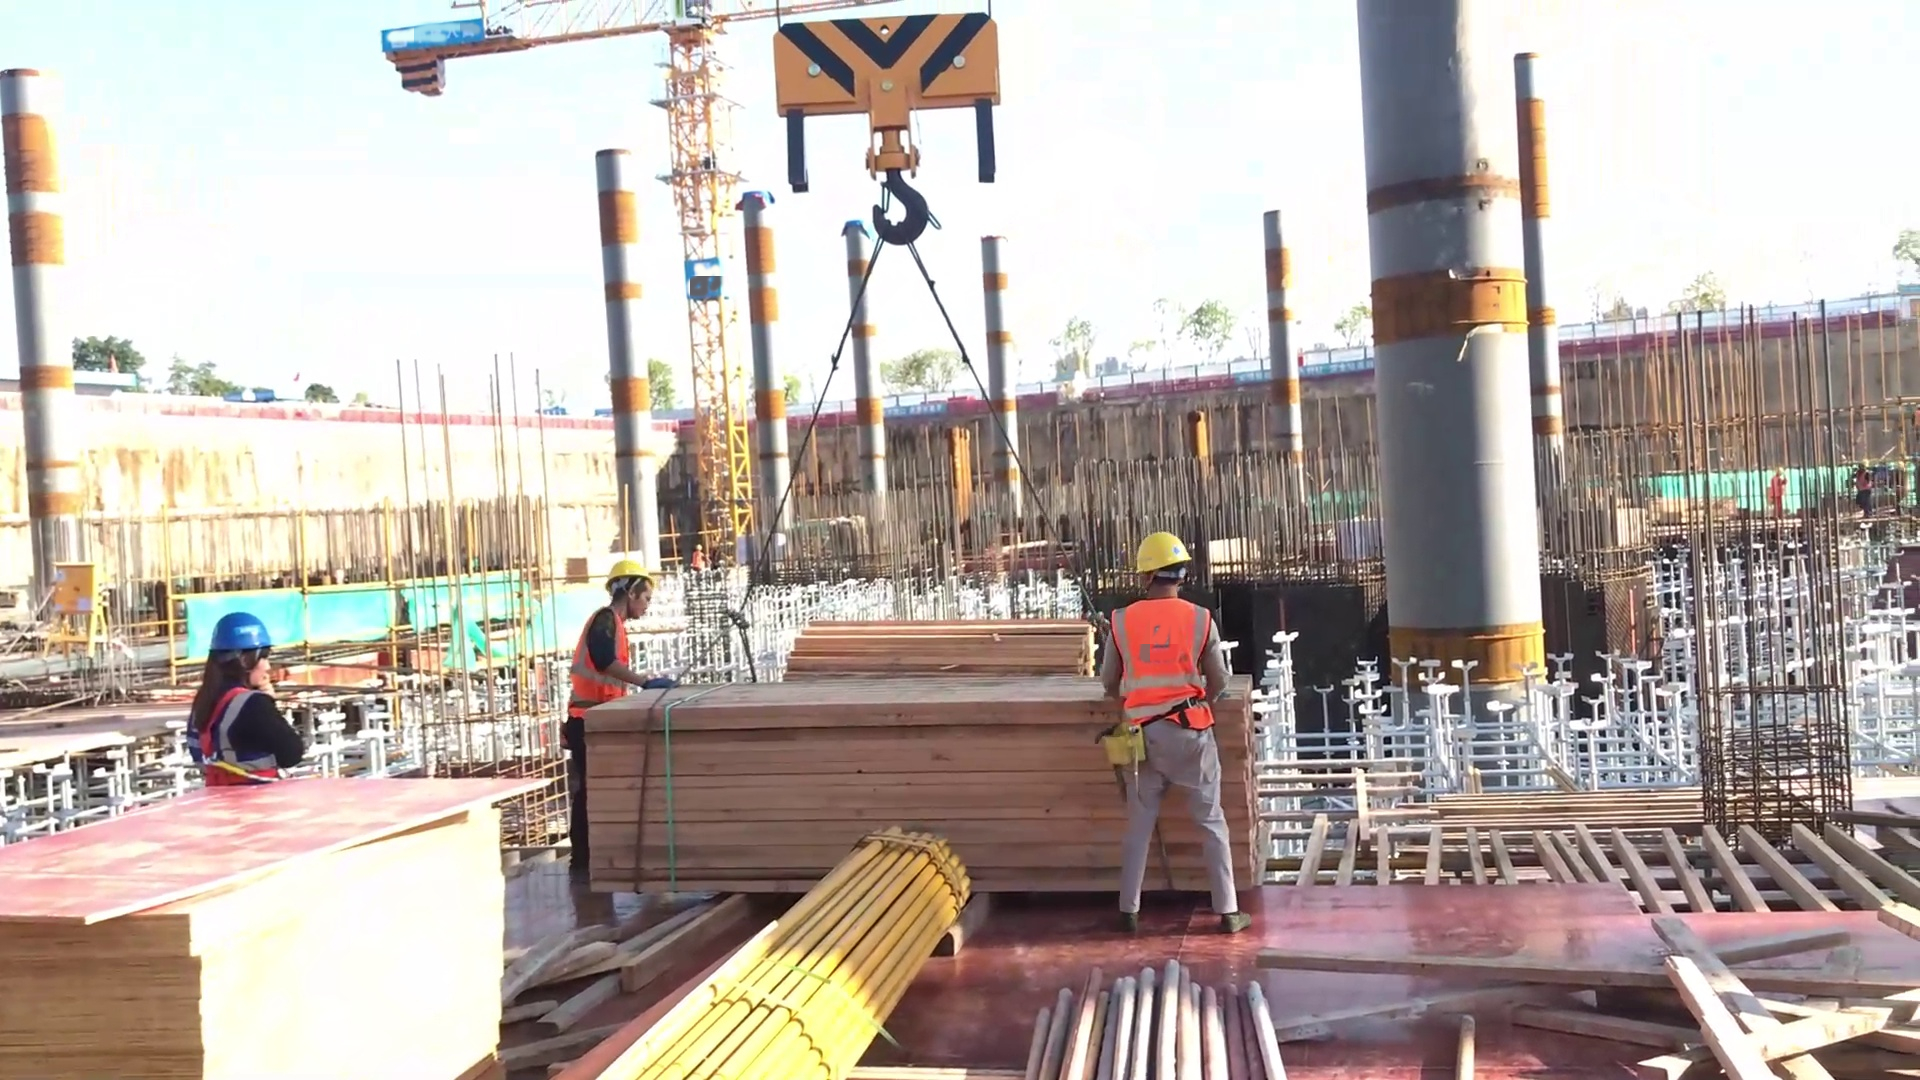board: (1, 753, 575, 1077)
ebox: (36, 565, 116, 653)
helmet: (1129, 518, 1202, 584), (209, 607, 292, 660), (597, 558, 661, 603)
hook: (770, 15, 1009, 249)
person: (1090, 527, 1290, 935), (544, 543, 692, 938), (169, 614, 333, 787)
vest: (1101, 591, 1225, 745), (181, 683, 294, 776), (567, 612, 643, 716)
wood: (574, 666, 1294, 904)
